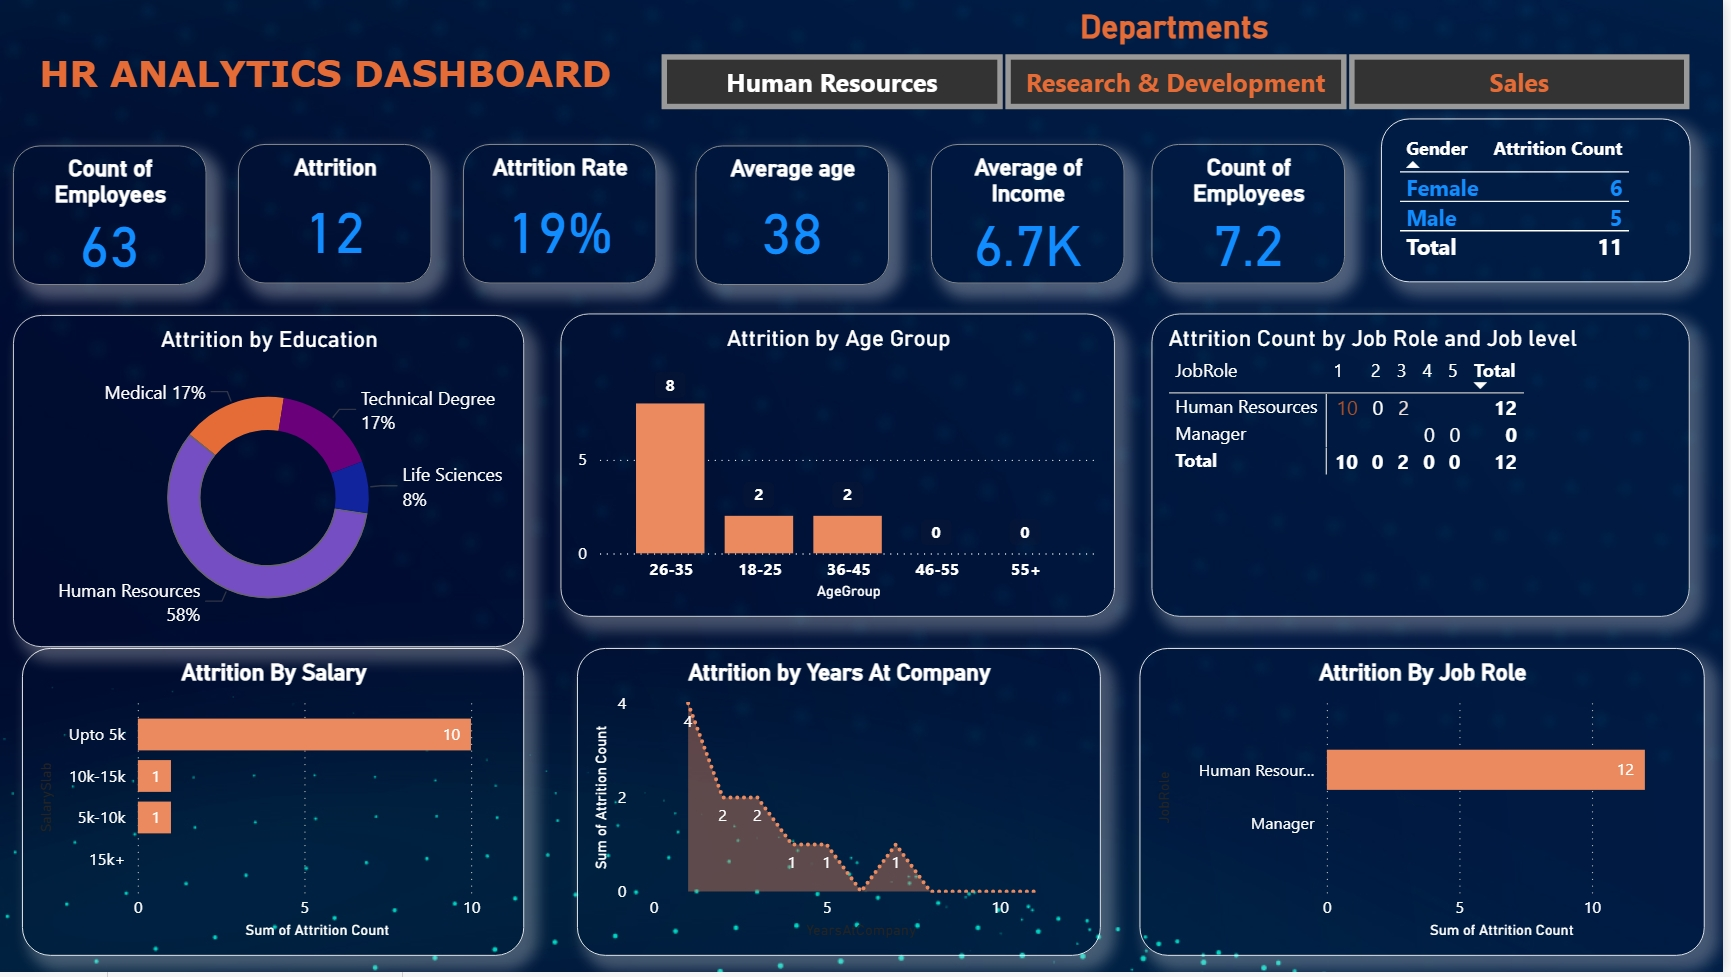

What the dashboard file says about the page in this screenshot:
{"tool":"powerbi","page":{"name":"HR Analytics Dashboard","canvas":[1280,720],"ordinal":0},"visuals":[{"type":"card","title":"Count of Employees","fields":{"Values":["CountNonNull(HR_Analytics.EmpID)"]},"box":[13.8,107.7,143.1,103.1],"z":0},{"type":"card","title":"Average age","fields":{"Values":["Avg(HR_Analytics.Age)"]},"box":[518.5,107.7,143.1,103.1],"z":1000},{"type":"card","title":"Attrition Rate","fields":{"Values":["HR_Analytics.AttritionRate"]},"box":[346.2,106.2,143.1,103.1],"z":2000},{"type":"card","title":"Attrition","fields":{"Values":["Sum(HR_Analytics.Attrition Count)"]},"box":[180,106.2,143.1,103.1],"z":3000},{"type":"card","title":"Count of Employees","fields":{"Values":["Avg(HR_Analytics.YearsAtCompany)"]},"box":[856.9,106.2,143.1,103.1],"z":4000},{"type":"card","title":"Average of Income","fields":{"Values":["Avg(HR_Analytics.MonthlyIncome)"]},"box":[693.8,106.2,143.1,103.1],"z":5000},{"type":"donutChart","title":"Attrition by Education","fields":{"Y":["Sum(HR_Analytics.Attrition Count)"],"Category":["HR_Analytics.EducationField"]},"box":[13.8,233.8,378.5,246.2],"z":6000},{"type":"columnChart","title":"Attrition by Age Group","fields":{"Y":["Sum(HR_Analytics.Attrition Count)"],"Category":["HR_Analytics.AgeGroup"]},"box":[418.5,232.3,410.8,224.6],"z":7000},{"type":"pivotTable","title":"Attrition Count by Job Role and Job level","fields":{"Rows":["HR_Analytics.JobRole"],"Values":["Sum(HR_Analytics.Attrition Count)"],"Columns":["HR_Analytics.JobLevel"]},"box":[856.9,232.3,398.5,224.6],"z":8000},{"type":"barChart","title":"Attrition By Salary ","fields":{"Category":["HR_Analytics.SalarySlab"],"Y":["Sum(HR_Analytics.Attrition Count)"]},"box":[20,480,372.3,227.7],"z":9000},{"type":"barChart","title":"Attrition By Job Role","fields":{"Y":["Sum(HR_Analytics.Attrition Count)"],"Category":["HR_Analytics.JobRole"]},"box":[847.7,480,418.5,227.7],"z":10000},{"type":"stackedAreaChart","title":"Attrition by Years At Company","fields":{"Category":["HR_Analytics.YearsAtCompany"],"Y":["Sum(HR_Analytics.Attrition Count)"]},"box":[430.8,480,387.7,227.7],"z":11000},{"type":"tableEx","title":"Attrition by Year","fields":{"Values":["HR_Analytics.Gender","Sum(HR_Analytics.Attrition Count)"]},"box":[1026.2,87.7,229.2,121.5],"z":12000},{"type":"slicer","title":"Departments","fields":{"Values":["HR_Analytics.Department"]},"box":[467.9,6.1,811.6,81.8],"z":13000},{"type":"textbox","box":[27.7,32.3,447.7,55.4],"z":14000}]}

Visuals, with their boxes in screenshot pixels (x1, y1, x2, y2), scaled from the page's 1280x720 canvas onto the 1731x977 screenshot:
"Count of Employees" card: box(19, 146, 212, 286)
"Average age" card: box(701, 146, 895, 286)
"Attrition Rate" card: box(468, 144, 662, 284)
"Attrition" card: box(243, 144, 437, 284)
"Count of Employees" card: box(1159, 144, 1352, 284)
"Average of Income" card: box(938, 144, 1132, 284)
"Attrition by Education" donutChart: box(19, 317, 531, 651)
"Attrition by Age Group" columnChart: box(566, 315, 1121, 620)
"Attrition Count by Job Role and Job level" pivotTable: box(1159, 315, 1698, 620)
"Attrition By Salary " barChart: box(27, 651, 531, 960)
"Attrition By Job Role" barChart: box(1146, 651, 1712, 960)
"Attrition by Years At Company" stackedAreaChart: box(583, 651, 1107, 960)
"Attrition by Year" tableEx: box(1388, 119, 1698, 284)
"Departments" slicer: box(633, 8, 1730, 119)
textbox: box(37, 44, 643, 119)
